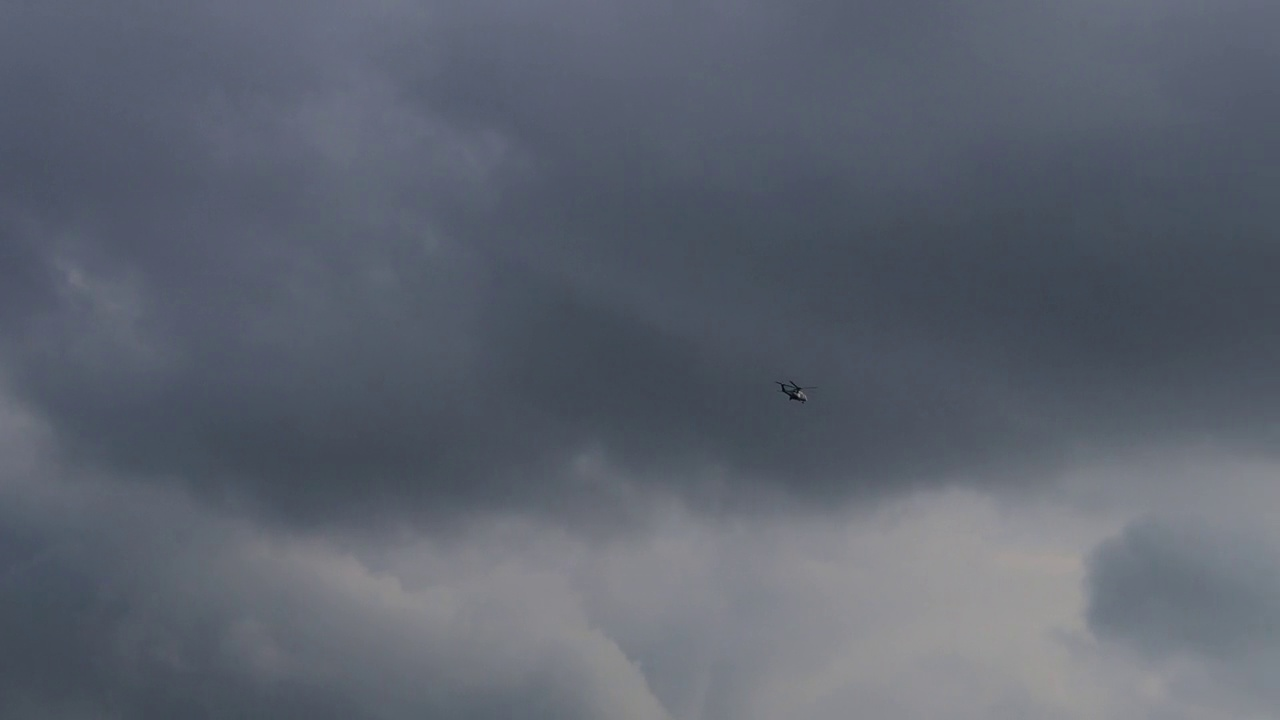heli: (774, 381, 818, 403)
